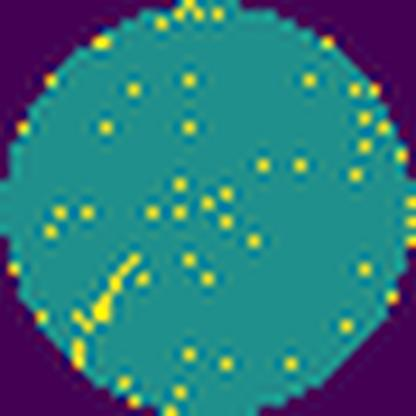Scratch: (65, 245, 150, 372)
